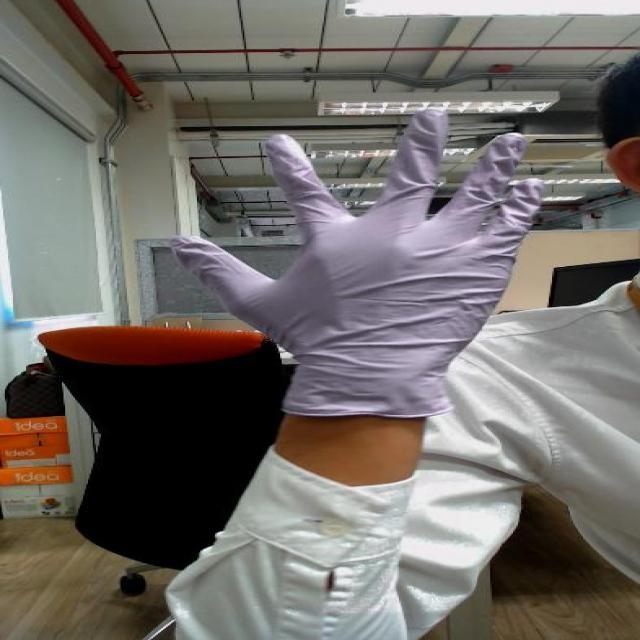with_gloves: (143, 75, 602, 375)
